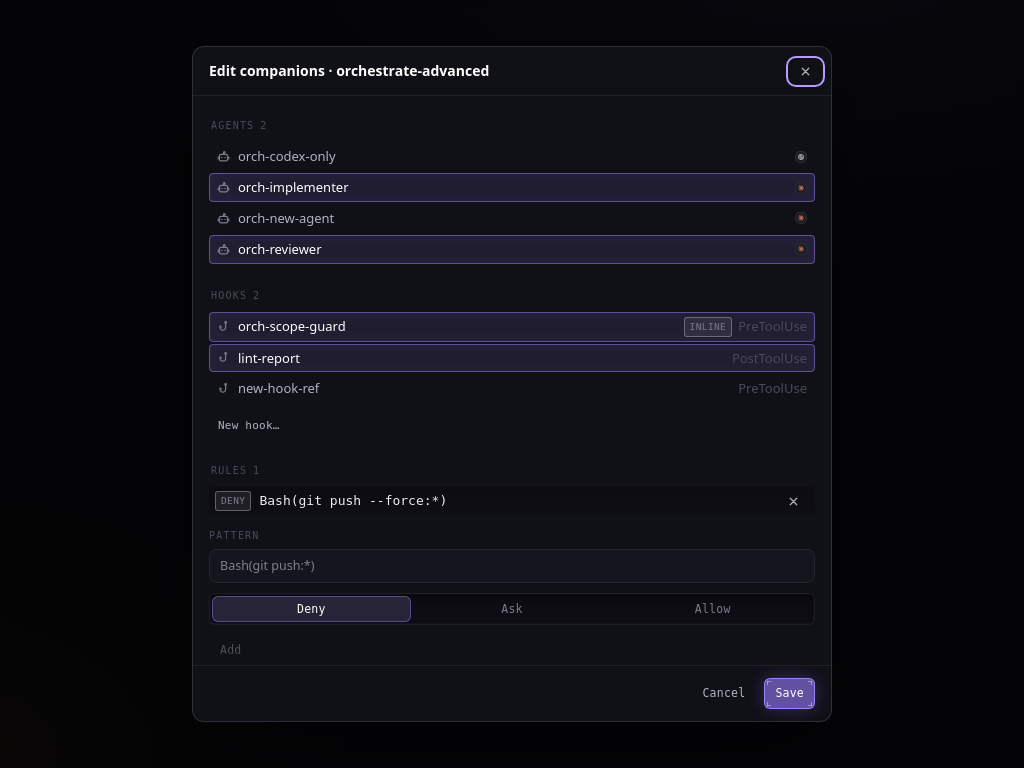
CompanionsEditSheet › deselecting a ledgered ref hook renders its own de-provision line
Click the option "lint-report PostToolUse". click: (269, 358)
box: [209, 344, 815, 372]
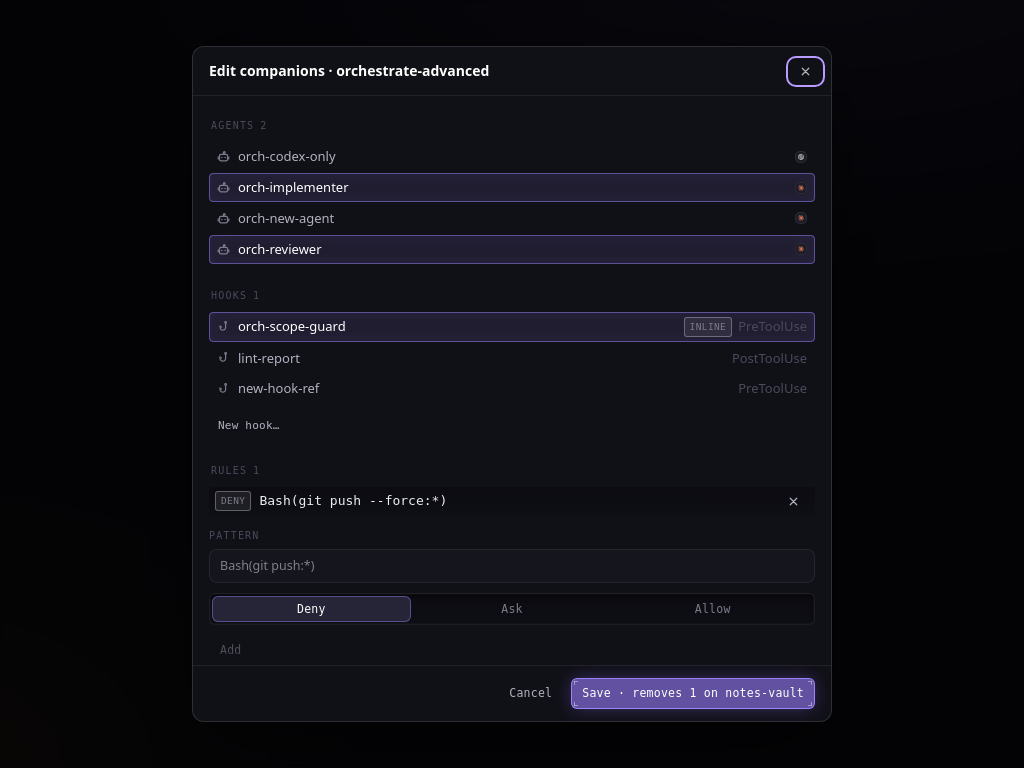
Expected: the button with test id "companions-edit-save" shows "removes 1 on notes-vault", [571, 678, 815, 709]
